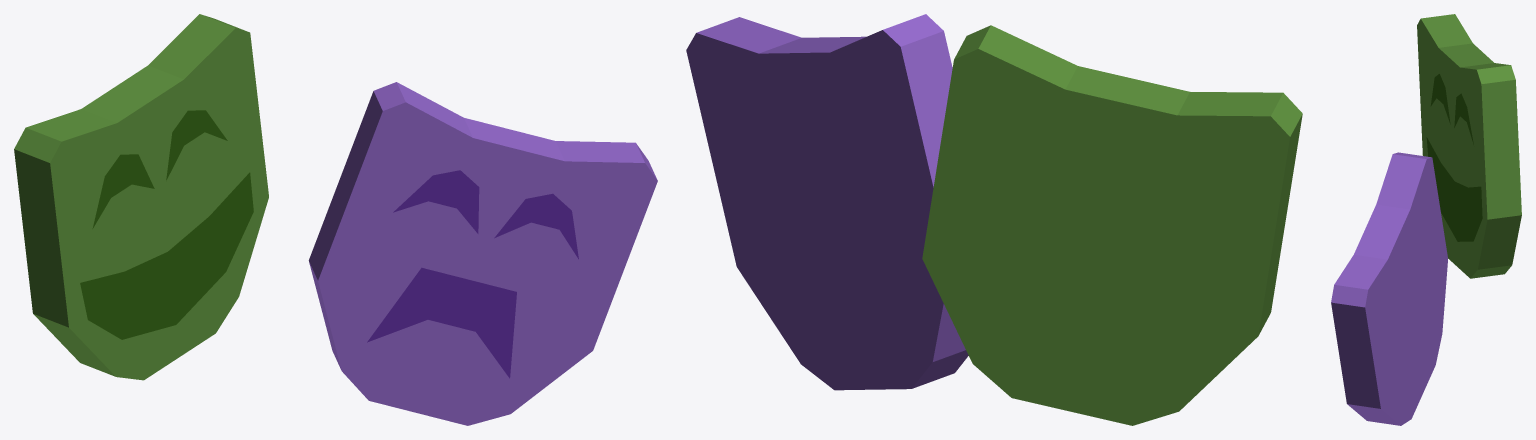
The model's file is arts_entertainment_and_recreation.gltf.
3 renders of one model, left to right at view 1: azimuth 30°, elevation 25°; view 2: azimuth 150°, elevation 25°; view 3: azimuth 270°, elevation 25°, orthographic. The views are drawn at different scales.
Visible parts, largest first — view 1: Arts, Entertainment, and Recreation; view 2: Arts, Entertainment, and Recreation; view 3: Arts, Entertainment, and Recreation.
Boxes of the visible parts, left/top/right/bottom form: Arts, Entertainment, and Recreation: left=14, top=14, right=657, bottom=425; Arts, Entertainment, and Recreation: left=686, top=14, right=1302, bottom=425; Arts, Entertainment, and Recreation: left=1331, top=14, right=1521, bottom=425.
Size of the model in its own units: 1.77 by 1.14 by 0.6904.
1 material, 1 textured.
